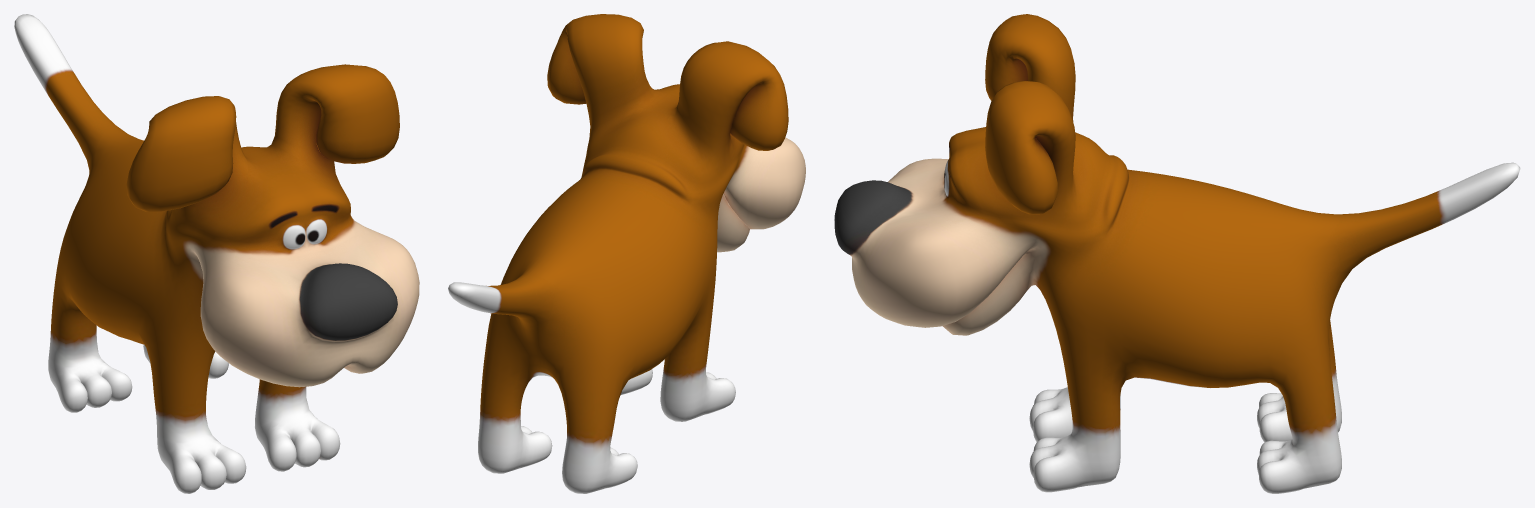
3 renders of one model, left to right at view 1: azimuth 30°, elevation 25°; view 2: azimuth 150°, elevation 25°; view 3: azimuth 270°, elevation 25°, orthographic. The views are drawn at different scales.
Parts seen in each view (by area): view 1: CartoonDog; view 2: CartoonDog; view 3: CartoonDog.
Boxes of the visible parts, left/top/right/bottom form: CartoonDog: left=14, top=14, right=419, bottom=493; CartoonDog: left=448, top=14, right=805, bottom=493; CartoonDog: left=834, top=14, right=1520, bottom=493.
Bounding box in the file's own units: 2.84 × 4.07 × 6.29.
1 material, 1 textured.
